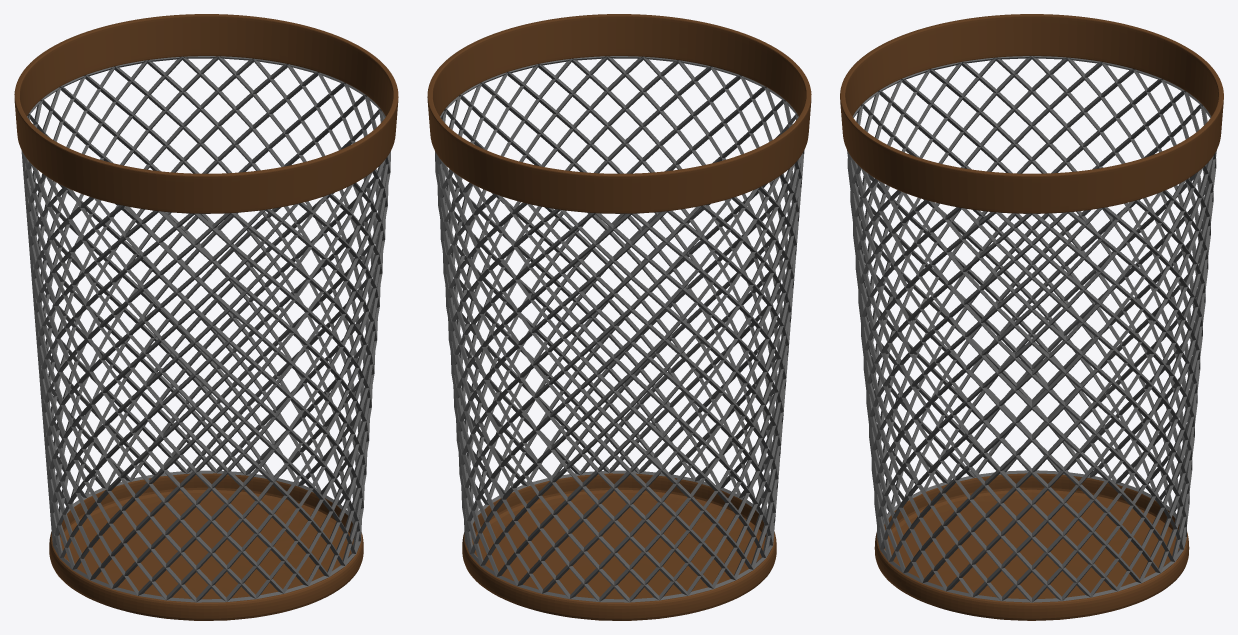
File: TrashCan.fbx
3 renders of one model, left to right at view 1: azimuth 30°, elevation 25°; view 2: azimuth 150°, elevation 25°; view 3: azimuth 270°, elevation 25°, orthographic.
Parts seen in each view (by area): view 1: Circle; view 2: Circle; view 3: Circle.
Part boxes in pixels (x1,y1,x2,y2): Circle: (14,14,398,620); Circle: (427,14,811,620); Circle: (840,14,1223,620).
Bounding box in the file's own units: 2.04 × 2.73 × 2.04.
Materials: 2 (1 with a texture image).
